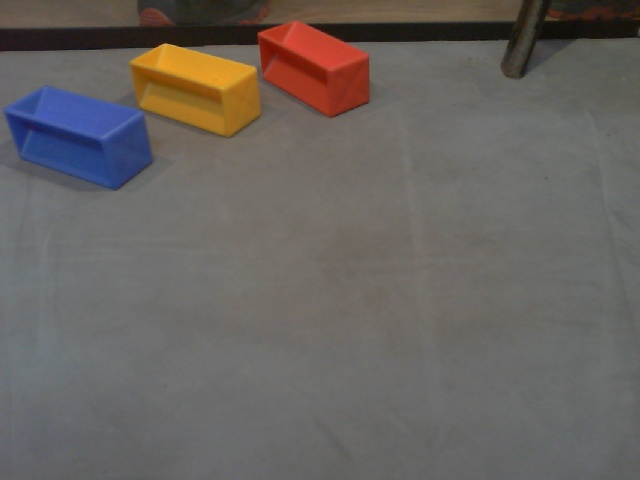BlueSample: (4, 83, 155, 198)
RedSample: (253, 20, 372, 120)
YellowSample: (126, 40, 262, 142)
